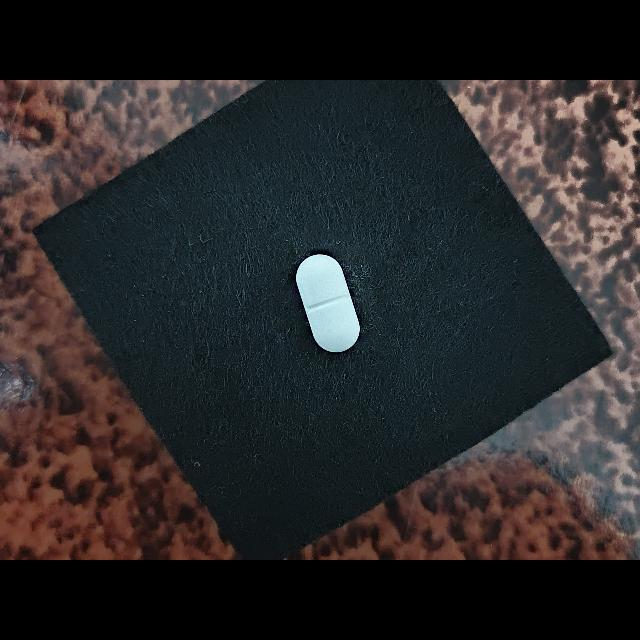Intact Pill: (296, 254, 360, 353)
